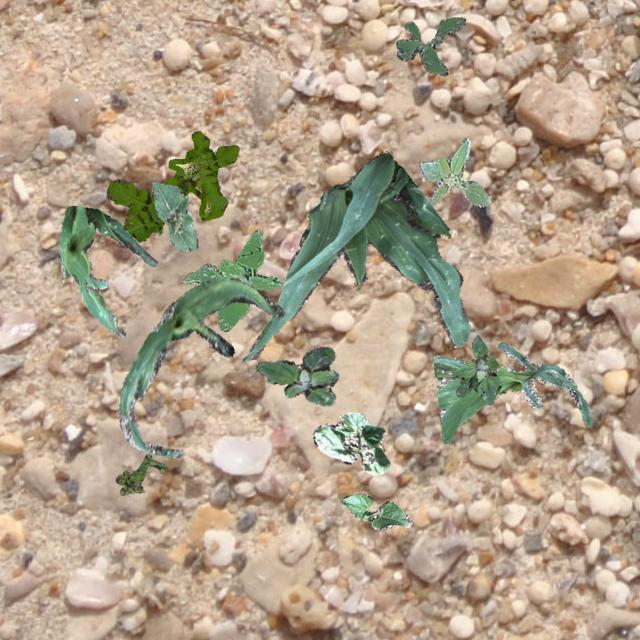crop: (241, 152, 468, 362), (118, 276, 284, 458), (432, 340, 592, 442), (56, 205, 156, 336), (314, 410, 388, 474), (150, 180, 197, 250), (342, 494, 411, 530)
weed: (105, 130, 238, 240), (182, 228, 280, 330), (418, 137, 490, 205), (255, 346, 338, 404), (394, 16, 464, 74), (454, 334, 499, 404), (114, 452, 166, 494)
